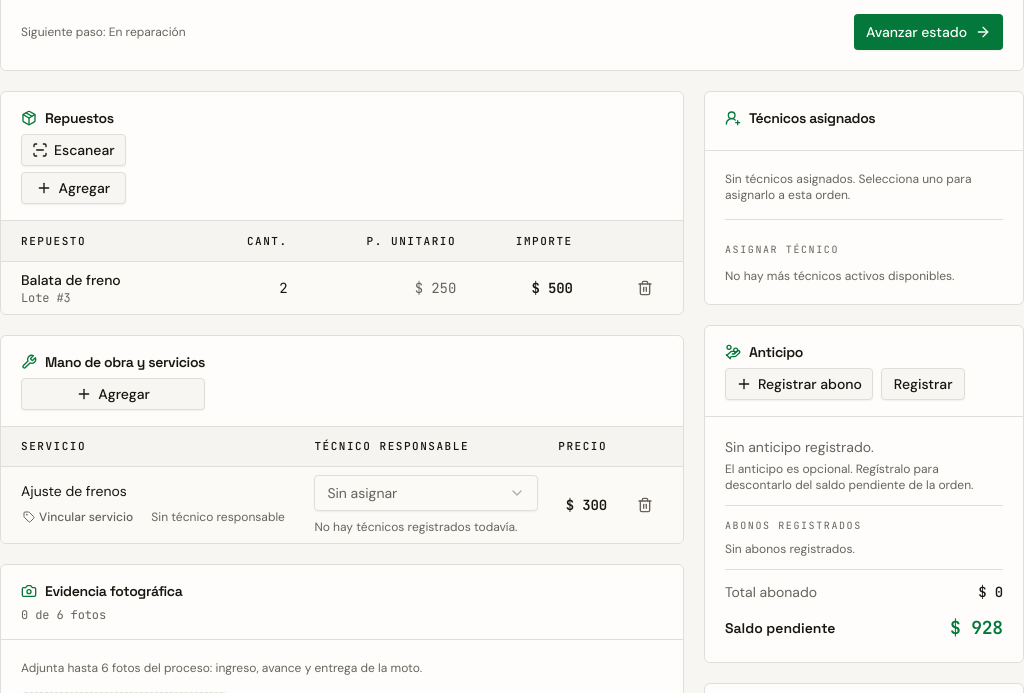
Test: OrderDetailPage anticipo visibility seam (characterization) › keeps the advance dialog rejecting a non-positive amount
(page scrolled)
# Open the dialog through the action the visibility gate controls.
Click the button with test id "order_detail.advance.edit_button". click: coordinates (923, 384)
box: [881,368,966,400]
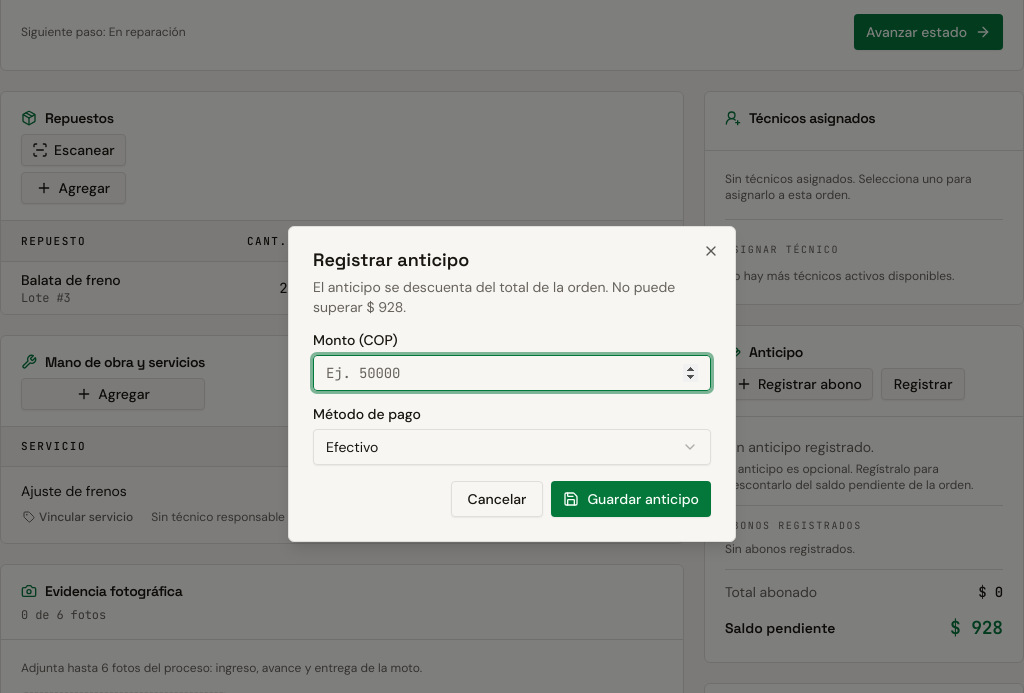
Type "0" into the number field with test id "order_detail.advance_dialog.amount_input". click: coordinates (512, 373)
box: [313,355,711,391]
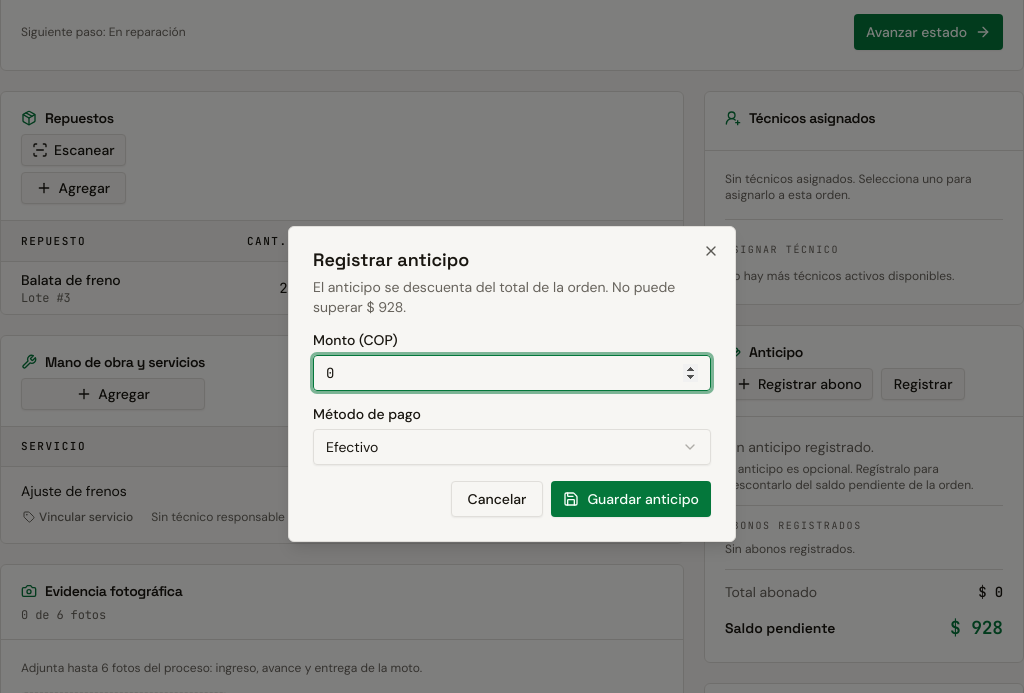
Click the button with test id "order_detail.advance_dialog.save_button". click: coordinates (631, 499)
box: [551,481,711,517]
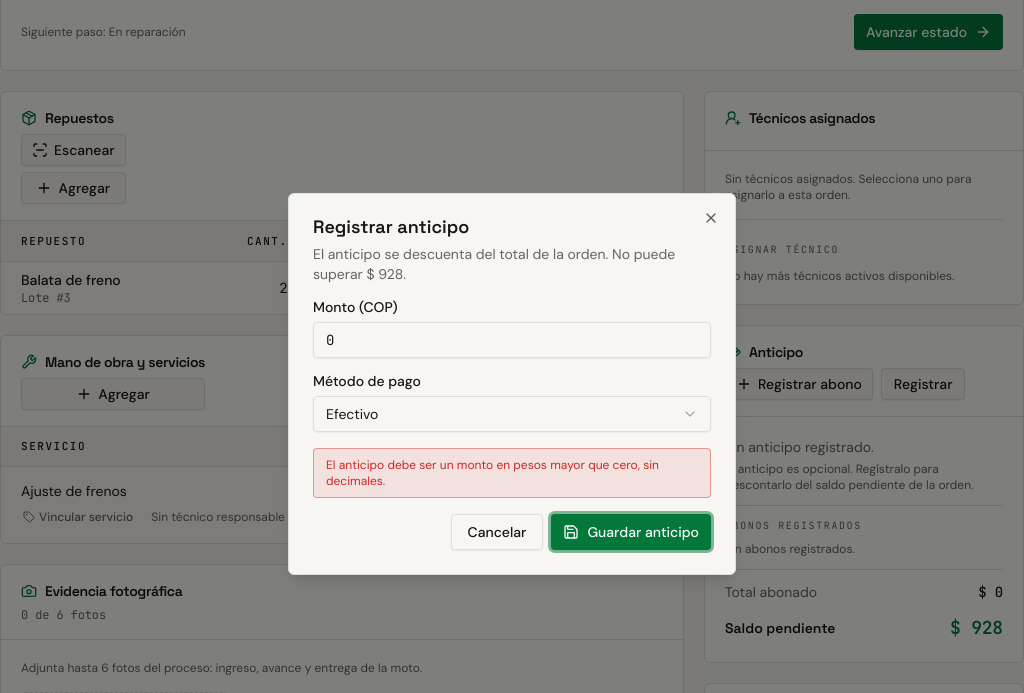
Check: the text with test id "order_detail.advance_dialog.error_state" shows "mayor que cero", box [326,457,659,489]
